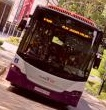bus: (41, 12, 55, 24)
